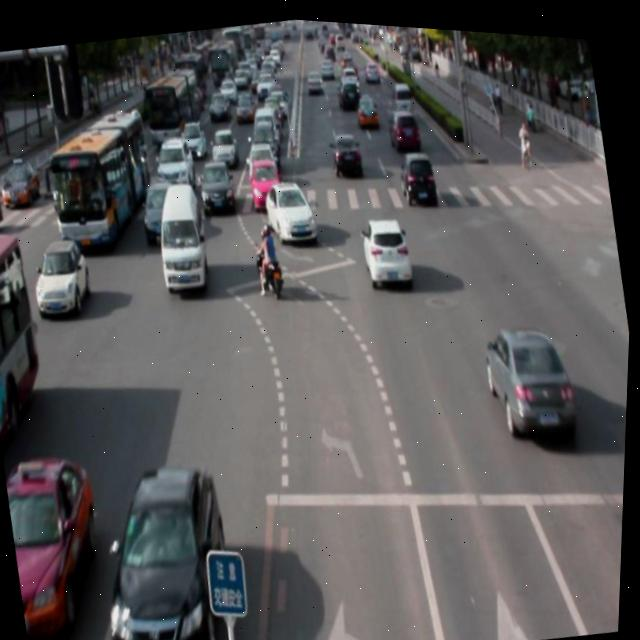car: (87, 448, 253, 640), (1, 445, 116, 639), (480, 310, 581, 443), (30, 235, 95, 320), (357, 206, 417, 286), (259, 168, 320, 243), (138, 175, 184, 245), (397, 141, 439, 204)
truck: (149, 177, 214, 289)
van: (44, 101, 161, 253), (0, 226, 60, 463)
